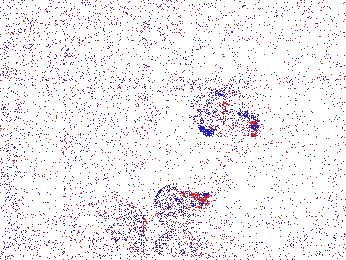flame jellyfish: (192, 93, 260, 139), (153, 186, 212, 231), (94, 203, 147, 248)
